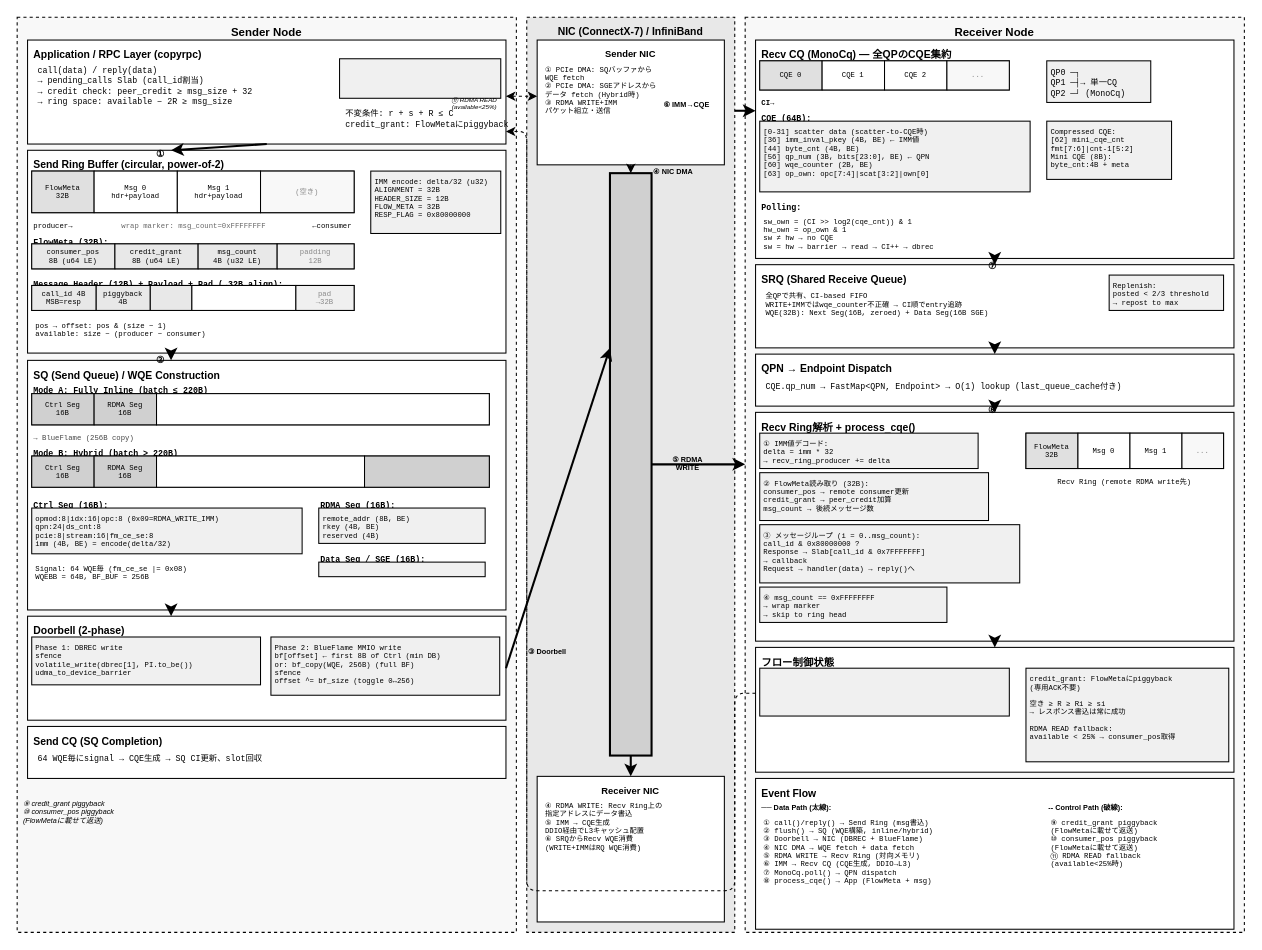
This 1262x950 diagram has some shape labels left out. The shapes that lost their labels are listed below. From the top down, each one's centre as x and y in pixels, then its label:
[420,78]: DEFAULT_RING_SIZE = 1MB MAX_RESP_RESERVATION = 256KB SIGNAL_INTERVAL = 64
[170,297]: len 4B
[243,297]: payload len bytes
[322,409]: Inline Data ≤ 220B (0x8000_0000|len + data)
[260,471]: Inline ≤ 204B
[426,471]: SGE 16B →Send Ring
[630,464]: I n f i n i B a n d R C
[401,569]: byte_count:4B lkey:4B addr:8B
[884,691]: 不変条件: r + s + R ≤ C r: 未消費リクエストブロック数 s: 未消費レスポンスブロック数 R: レスポンス予約総量 (max 256KB)
